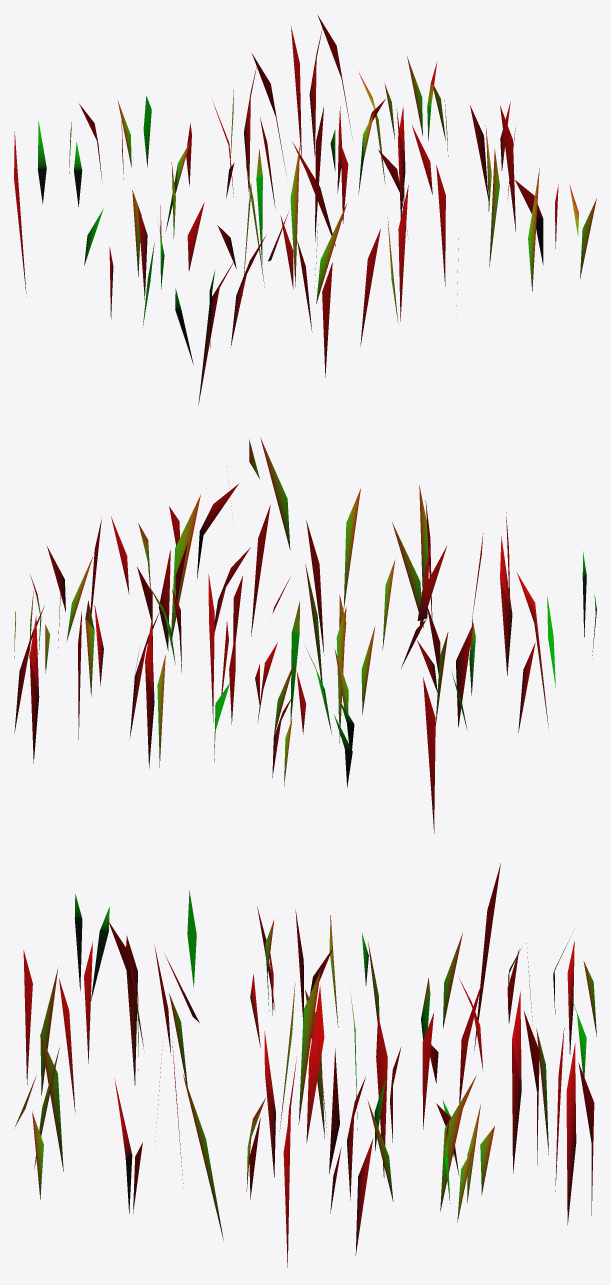
Rendered from mesh_dsj_grass_lod6.fbx.
3 views of the same model, one above another, from view 1: azimuth 30°, elevation 25°; view 2: azimuth 150°, elevation 25°; view 3: azimuth 270°, elevation 25° (orthographic). The views are drawn at different scales.
Visible parts, largest first — view 1: mesh_dsj_grass_lod05; view 2: mesh_dsj_grass_lod05; view 3: mesh_dsj_grass_lod05.
Boxes of the visible parts, <box> form: mesh_dsj_grass_lod05: <box>14,15,596,405</box>; mesh_dsj_grass_lod05: <box>14,437,596,833</box>; mesh_dsj_grass_lod05: <box>14,863,596,1267</box>.
Bounding box in the file's own units: 3.43 × 1.41 × 3.31.
